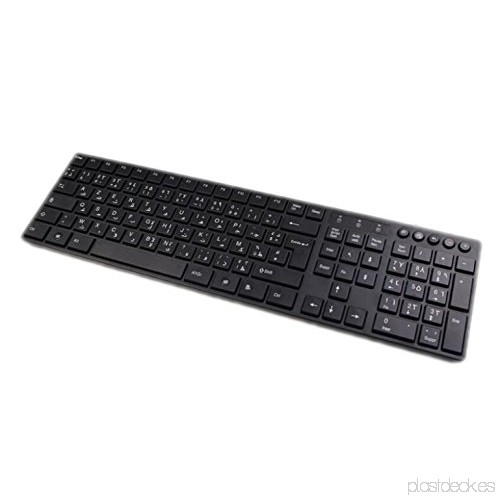Teclado: (22, 152, 480, 362)
